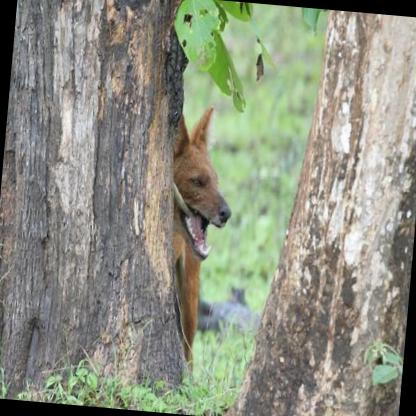dhole: (150, 99, 240, 390)
